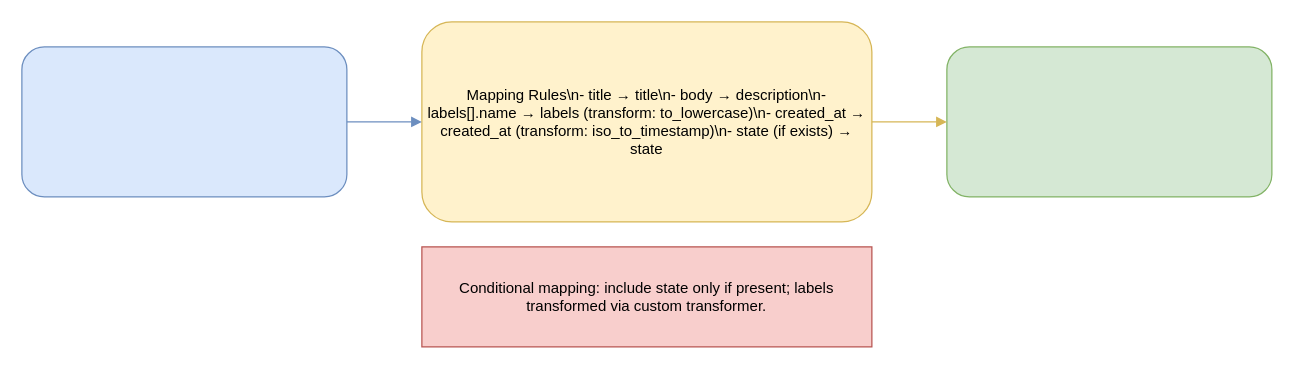
The diagram is 1294 pixels wide and 369 high, and some of its shapes have lost their labels. The centre of each missing label's shape, as x and y in pixels:
"GitHub Issue (source)\n{ id, title, body, labels[], created_at }" goes at pixel 184 121.
"GitLab Issue (target)\n{ title, description, labels[], created_at, state }" goes at pixel 1109 121.
